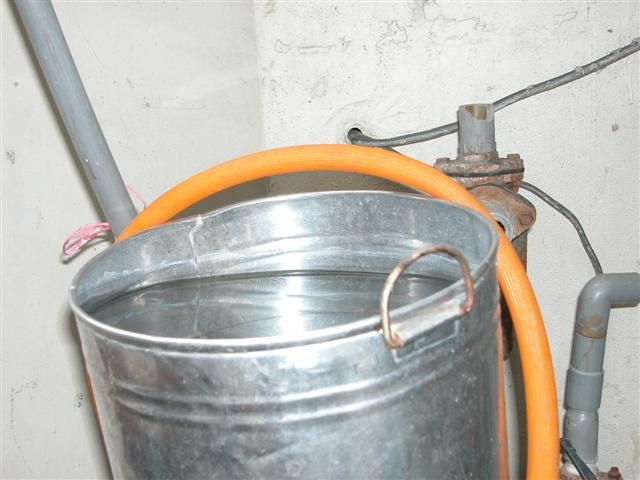bucket: (65, 188, 504, 480)
